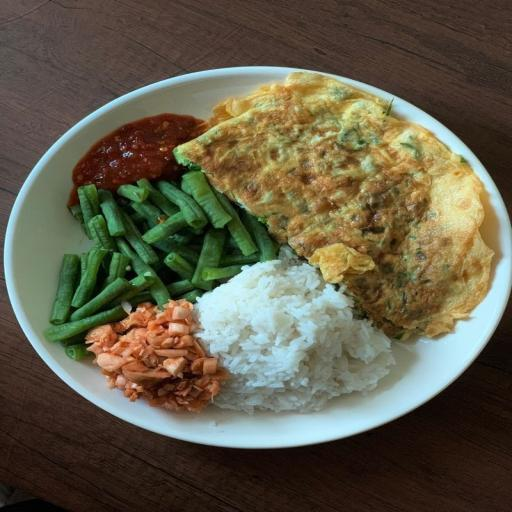buncis_rebus: (20, 169, 286, 320)
nasi_putih: (194, 257, 400, 419)
telur_ayam_dadar: (291, 50, 512, 277)
